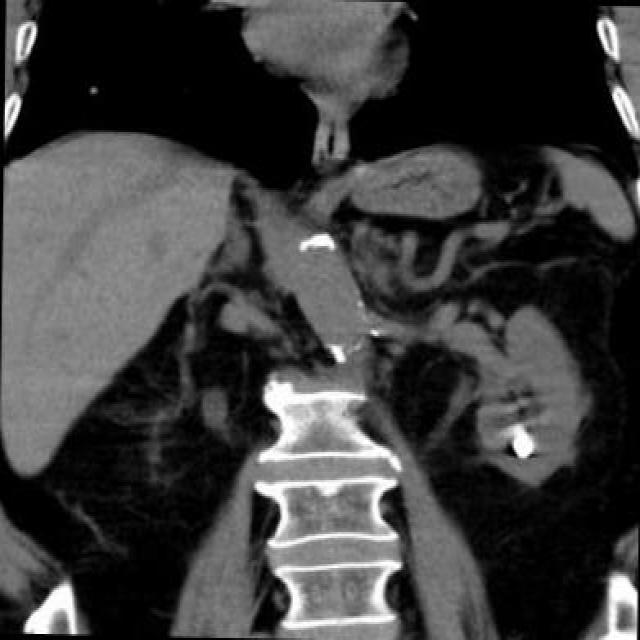Tas_Var: (508, 429, 534, 459)
